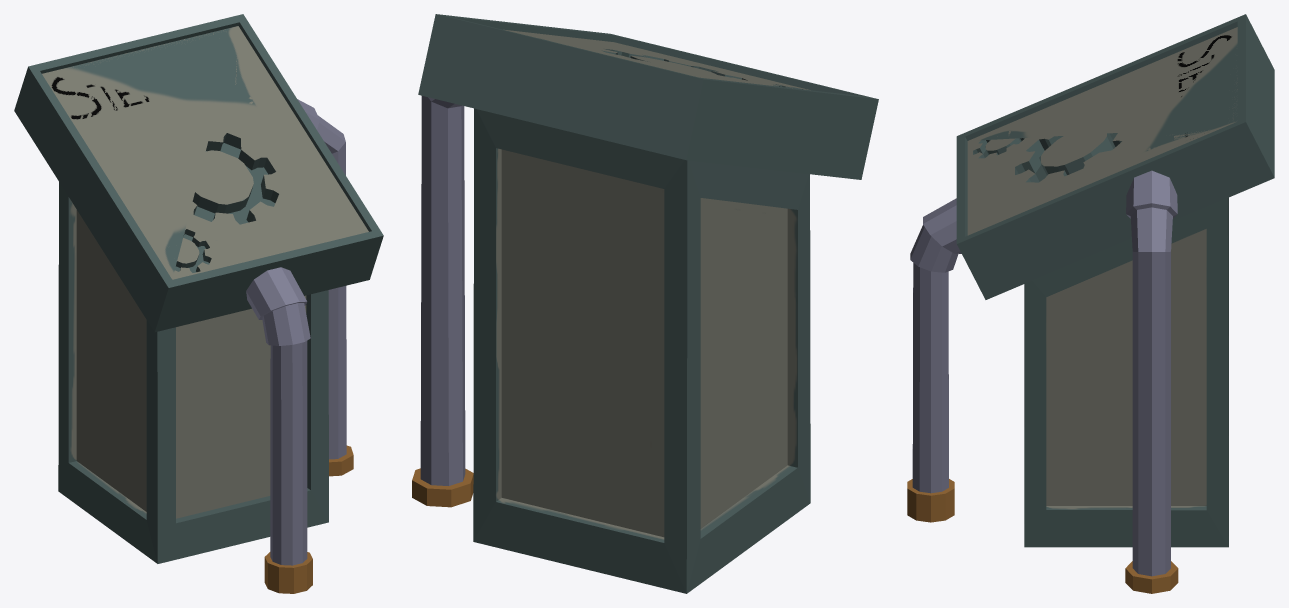
File: podium_2.fbx
3 views of the same model, side by side, from view 1: azimuth 30°, elevation 25°; view 2: azimuth 150°, elevation 25°; view 3: azimuth 270°, elevation 25° (orthographic). The views are drawn at different scales.
Parts seen in each view (by area): view 1: podium.001, podium_pipe1.001, podium_pipe2.001; view 2: podium.001, podium_pipe2.001; view 3: podium.001, podium_pipe2.001, podium_pipe1.001.
Boxes of the visible parts, left/top/right/bottom form: podium.001: left=14, top=14, right=383, bottom=563; podium_pipe1.001: left=246, top=267, right=312, bottom=593; podium_pipe2.001: left=297, top=99, right=353, bottom=476; podium.001: left=418, top=14, right=878, bottom=593; podium_pipe2.001: left=412, top=96, right=473, bottom=507; podium.001: left=956, top=14, right=1274, bottom=547; podium_pipe2.001: left=1125, top=170, right=1178, bottom=593; podium_pipe1.001: left=907, top=198, right=961, bottom=522.
Bounding box in the file's own units: 96.66 × 144 × 108.
3 materials, 3 textured.
